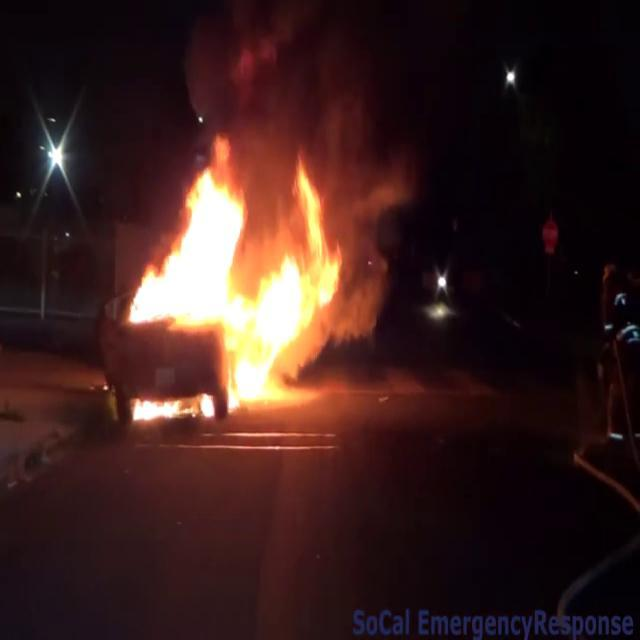Fire: (119, 132, 349, 412)
